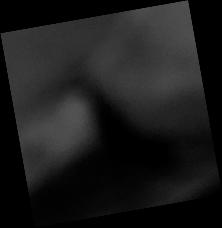crack: (0, 1, 222, 228)
